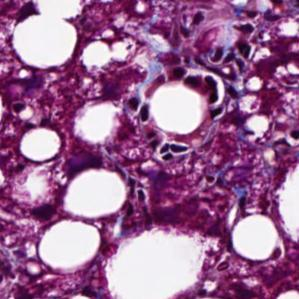inflammation: (164, 37, 256, 101), (156, 139, 191, 162)
